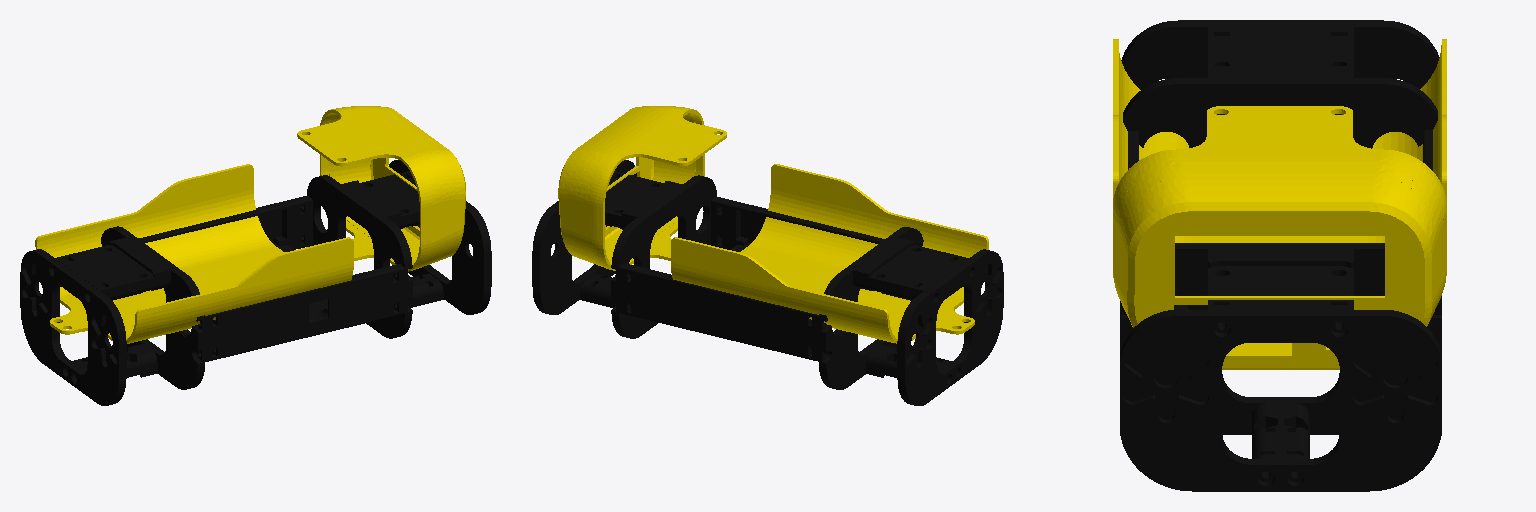
URDF robot description (rex):
<?xml version="1.0" encoding="utf-8"?>
<!-- =================================================================================== -->
<!-- |    This document was autogenerated by xacro from urdf/spotmicroai.urdf.xacro    | -->
<!-- |    EDITING THIS FILE BY HAND IS NOT RECOMMENDED                                 | -->
<!-- =================================================================================== -->
<robot name="rex" xmlns:xacro="http://www.ros.org/wiki/xacro">
  <material name="yellow">
    <color rgba="0.92 0.83 0.0 1"/>
  </material>
  <material name="black">
    <color rgba="0.1 0.1 0.1 1"/>
  </material>
  <material name="grey">
    <color rgba="0.6 0.6 0.6 1"/>
  </material>
  <!-- Params -->
  <!-- Macros -->
  <!-- Robot Body -->
  <link name="base_link">
    <visual>
      <geometry>
        <mesh filename="stl/mainbody.stl" scale="0.001 0.001 0.001"/>
      </geometry>
      <material name="black"/>
      <origin rpy="0 0 0" xyz="-0.045 -0.060 -0.015"/>
    </visual>
    <collision>
      <geometry>
        <box size="0.14 0.11 0.07"/>
      </geometry>
      <origin rpy="0 0 0" xyz="0 0 0"/>
    </collision>
    <inertial>
      <mass value="2.80"/>
      <inertia ixx="100" ixy="0" ixz="0" iyy="100" iyz="0" izz="100"/>
    </inertial>
  </link>

<!--  @TODO add lidar sensor-->
  <!-- Lidar Backpack -->
<!--  <link name="lidar_link">-->
<!--    <visual>-->
<!--      <geometry>-->
<!--        <mesh filename="stl/rplidar_main.STL" scale="0.001 0.001 0.001"/>-->
<!--      </geometry>-->
<!--      <material name="black"/>-->
<!--      <origin rpy="1.57075 0 0" xyz="-0.06425 0.02885 0"/>-->
<!--    </visual>-->
<!--    <collision>-->
<!--      <geometry>-->
<!--        <box size="0.0985 0.0577 0.07"/>-->
<!--      </geometry>-->
<!--      <origin rpy="0 0 0" xyz="0 0 0"/>-->
<!--    </collision>-->
<!--    <inertial>-->
<!--      <mass value="0.50"/>-->
<!--      <inertia ixx="100" ixy="0" ixz="0" iyy="100" iyz="0" izz="100"/>-->
<!--    </inertial>-->
<!--  </link>-->
<!--  <joint name="base_lidar" type="fixed">-->
<!--    <parent link="base_link"/>-->
<!--    <child link="lidar_link"/>-->
<!--    <origin xyz="0 0 0.035"/>-->
<!--  </joint>-->

  <!-- create head & tail -->
  <link name="chassis_front_link">
    <visual>
      <geometry>
        <mesh filename="stl/frontpart.stl" scale="0.001 0.001 0.001"/>
      </geometry>
      <origin rpy="0 0 0" xyz="-0.040 -0.060 -0.0140"/>
      <material name="yellow"/>
    </visual>
    <collision>
      <geometry>
        <box size="0.058 0.11 0.07"/>
      </geometry>
      <origin rpy="0 0 0" xyz="-0.145 0 0"/>
    </collision>
    <inertial>
      <mass value="0.20"/>
      <inertia ixx="100" ixy="0" ixz="0" iyy="100" iyz="0" izz="100"/>
    </inertial>
  </link>
  <joint name="chassis_base_front" type="fixed">
    <parent link="base_link"/>
    <child link="chassis_front_link"/>
  </joint>
  <link name="chassis_rear_link">
    <visual>
      <geometry>
        <mesh filename="stl/backpart.stl" scale="0.001 0.001 0.001"/>
      </geometry>
      <origin rpy="0 0 0" xyz="-0.040 -0.060 -0.0140"/>
      <material name="yellow"/>
    </visual>
    <collision>
      <geometry>
        <box size="0.04 0.11 0.07"/>
      </geometry>
      <origin rpy="0 0 0" xyz="0.135 0 0"/>
    </collision>
    <inertial>
      <mass value="0.20"/>
      <inertia ixx="100" ixy="0" ixz="0" iyy="100" iyz="0" izz="100"/>
    </inertial>
  </link>
  <joint name="chassis_base_rear" type="fixed">
    <parent link="base_link"/>
    <child link="chassis_rear_link"/>
  </joint>

  <!-- create Legs -->
  <link name="front_left_shoulder_link">
    <visual>
      <geometry>
        <mesh filename="stl/lshoulder.stl" scale="0.001 0.001 0.001"/>
      </geometry>
      <origin rpy="0 0 0" xyz="-0.135 -0.02 -0.01"/>
      <material name="black"/>
    </visual>
    <collision>
      <geometry>
        <box size="0.044 0.038 0.07"/>
      </geometry>
      <origin rpy="0 0 0" xyz="0 0 0"/>
    </collision>
    <inertial>
      <mass value="0.10"/>
      <inertia ixx="100" ixy="0" ixz="0" iyy="100" iyz="0" izz="100"/>
    </inertial>
  </link>
  <link name="front_left_leg_link_cover">
    <visual>
      <geometry>
        <mesh filename="stl/larm_cover.stl" scale="0.001 0.001 0.001"/>
      </geometry>
      <origin rpy="0 0 0" xyz="-0.125 0.04 -0.02"/>
      <material name="yellow"/>
    </visual>
  </link>
  <link name="front_left_leg_link">
    <visual>
      <geometry>
        <mesh filename="stl/larm.stl" scale="0.001 0.001 0.001"/>
      </geometry>
      <origin rpy="0 0 0" xyz="-0.125 0.04 -0.02"/>
      <material name="black"/>
      <!--        <geometry>
          <box size="0.028 0.036 ${leg_length}"/>
        </geometry>
        <origin rpy="0.0 0.0 0.0" xyz="0.0 0.0 -0.050"/>
        <material name="yellow"/>-->
    </visual>
    <collision>
      <origin rpy="0.0 0.0 0.0" xyz="0.0 0.0 -0.050"/>
      <geometry>
        <box size="0.028 0.036 0.12"/>
      </geometry>
    </collision>
    <inertial>
      <mass value="0.15"/>
      <inertia ixx="1000" ixy="0" ixz="0" iyy="1000" iyz="0" izz="1000"/>
    </inertial>
  </link>
  <link name="front_left_foot_link">
    <visual>
      <geometry>
        <mesh filename="stl/lfoot.stl" scale="0.001 0.001 0.001"/>
      </geometry>
      <origin rpy="0 0 0" xyz="-0.120 0.04 0.1"/>
      <material name="black"/>
    </visual>
    <collision>
      <geometry>
        <box size="0.026 0.020 0.115"/>
      </geometry>
      <origin rpy="0.0 0.0 0.0" xyz="0.0 0.0 -0.050"/>
    </collision>
    <inertial>
      <mass value="0.1"/>
      <inertia ixx="1000" ixy="0" ixz="0" iyy="1000" iyz="0" izz="1000"/>
    </inertial>
  </link>
  <link name="front_left_toe_link">
    <visual>
      <geometry>
        <mesh filename="stl/foot.stl" scale="0.001 0.001 0.001"/>
      </geometry>
      <origin rpy="0 -0.40010 0" xyz="0 -0.01 0"/>
      <material name="grey"/>
    </visual>
    <collision>
      <geometry>
        <sphere radius="0.02"/>
      </geometry>
      <origin rpy="0 0 0" xyz="0 0 0"/>
      <contact_coefficients mu="1.1"/>
    </collision>
    <inertial>
      <mass value="0.05"/>
      <inertia ixx="1000" ixy="0" ixz="0" iyy="1000" iyz="0" izz="1000"/>
    </inertial>
  </link>
  <joint name="motor_front_left_shoulder" type="revolute">
    <parent link="base_link"/>
    <child link="front_left_shoulder_link"/>
    <axis xyz="1 0 0"/>
    <origin rpy="0 0 0" xyz="-0.093 -0.036 0"/>
    <limit effort="1000.0" lower="-0.548" upper="0.548" velocity="0.7"/>
    <dynamics damping="0.0" friction="0.5"/>
  </joint>
  <joint name="motor_front_left_leg" type="revolute">
    <parent link="front_left_shoulder_link"/>
    <child link="front_left_leg_link"/>
    <axis xyz="0 1 0"/>
    <origin rpy="0 0 0" xyz="0 -0.052 0"/>
    <limit effort="1000.0" lower="-2.666" upper="1.548" velocity="0.5"/>
    <dynamics damping="0.0" friction="0.0"/>
  </joint>
  <joint name="front_left_leg_cover_joint" type="fixed">
    <parent link="front_left_leg_link"/>
    <child link="front_left_leg_link_cover"/>
    <origin xyz="0 0 0"/>
  </joint>
  <joint name="foot_motor_front_left" type="revolute">
    <parent link="front_left_leg_link"/>
    <child link="front_left_foot_link"/>
    <axis xyz="0 1 0"/>
    <origin rpy="0 0 0" xyz="-0.01 0 -0.12"/>
    <limit effort="1000.0" lower="-0.1" upper="2.59" velocity="0.5"/>
    <dynamics damping="0.0" friction="0.5"/>
  </joint>
  <joint name="front_left_toe" type="fixed">
    <parent link="front_left_foot_link"/>
    <child link="front_left_toe_link"/>
    <origin xyz="0 0 -0.115"/>
  </joint>

  <link name="front_right_shoulder_link">
    <visual>
      <geometry>
        <mesh filename="stl/rshoulder.stl" scale="0.001 0.001 0.001"/>
      </geometry>
      <origin rpy="0 0 0" xyz="-0.135 -0.09 -0.01"/>
      <material name="black"/>
    </visual>
    <collision>
      <geometry>
        <box size="0.044 0.038 0.07"/>
      </geometry>
      <origin rpy="0 0 0" xyz="0 0 0"/>
    </collision>
    <inertial>
      <mass value="0.10"/>
      <inertia ixx="100" ixy="0" ixz="0" iyy="100" iyz="0" izz="100"/>
    </inertial>
  </link>
  <link name="front_right_leg_link_cover">
    <visual>
      <geometry>
        <mesh filename="stl/rarm_cover.stl" scale="0.001 0.001 0.001"/>
      </geometry>
      <origin rpy="0 0 0" xyz="-0.125 -0.15 -0.02"/>
      <material name="yellow"/>
    </visual>
  </link>
  <link name="front_right_leg_link">
    <visual>
      <geometry>
        <mesh filename="stl/rarm.stl" scale="0.001 0.001 0.001"/>
      </geometry>
      <origin rpy="0 0 0" xyz="-0.125 -0.15 -0.02"/>
      <material name="black"/>
      <!--        <geometry>
          <box size="0.028 0.036 ${leg_length}"/>
        </geometry>
        <origin rpy="0.0 0.0 0.0" xyz="0.0 0.0 -0.050"/>
        <material name="yellow"/>-->
    </visual>
    <collision>
      <origin rpy="0.0 0.0 0.0" xyz="0.0 0.0 -0.050"/>
      <geometry>
        <box size="0.028 0.036 0.12"/>
      </geometry>
    </collision>
    <inertial>
      <mass value="0.15"/>
      <inertia ixx="1000" ixy="0" ixz="0" iyy="1000" iyz="0" izz="1000"/>
    </inertial>
  </link>
  <link name="front_right_foot_link">
    <visual>
      <geometry>
        <mesh filename="stl/rfoot.stl" scale="0.001 0.001 0.001"/>
      </geometry>
      <origin rpy="0 0 0" xyz="-0.120 -0.15 0.1"/>
      <material name="black"/>
    </visual>
    <collision>
      <geometry>
        <box size="0.026 0.020 0.115"/>
      </geometry>
      <origin rpy="0.0 0.0 0.0" xyz="0.0 0.0 -0.050"/>
    </collision>
    <inertial>
      <mass value="0.1"/>
      <inertia ixx="1000" ixy="0" ixz="0" iyy="1000" iyz="0" izz="1000"/>
    </inertial>
  </link>
  <link name="front_right_toe_link">
    <visual>
      <geometry>
        <mesh filename="stl/foot.stl" scale="0.001 0.001 0.001"/>
      </geometry>
      <origin rpy="0 -0.40010 0" xyz="0 -0.01 0"/>
      <material name="grey"/>
    </visual>
    <collision>
      <geometry>
        <sphere radius="0.02"/>
      </geometry>
      <origin rpy="0 0 0" xyz="0 0 0"/>
      <contact_coefficients mu="1.1"/>
    </collision>
    <inertial>
      <mass value="0.05"/>
      <inertia ixx="1000" ixy="0" ixz="0" iyy="1000" iyz="0" izz="1000"/>
    </inertial>
  </link>
  <joint name="motor_front_right_shoulder" type="revolute">
    <parent link="base_link"/>
    <child link="front_right_shoulder_link"/>
    <axis xyz="1 0 0"/>
    <origin rpy="0 0 0" xyz="-0.093 0.036 0"/>
    <limit effort="1000.0" lower="-0.548" upper="0.548" velocity="0.7"/>
    <dynamics damping="0.0" friction="0.5"/>
  </joint>
  <joint name="motor_front_right_leg" type="revolute">
    <parent link="front_right_shoulder_link"/>
    <child link="front_right_leg_link"/>
    <axis xyz="0 1 0"/>
    <origin rpy="0 0 0" xyz="0 0.052 0"/>
    <limit effort="1000.0" lower="-2.666" upper="1.548" velocity="0.5"/>
    <dynamics damping="0.0" friction="0.0"/>
  </joint>
  <joint name="front_right_leg_cover_joint" type="fixed">
    <parent link="front_right_leg_link"/>
    <child link="front_right_leg_link_cover"/>
    <origin xyz="0 0 0"/>
  </joint>
  <joint name="foot_motor_front_right" type="revolute">
    <parent link="front_right_leg_link"/>
    <child link="front_right_foot_link"/>
    <axis xyz="0 1 0"/>
    <origin rpy="0 0 0" xyz="-0.01 0 -0.12"/>
    <limit effort="1000.0" lower="-0.1" upper="2.59" velocity="0.5"/>
    <dynamics damping="0.0" friction="0.5"/>
  </joint>
  <joint name="front_right_toe" type="fixed">
    <parent link="front_right_foot_link"/>
    <child link="front_right_toe_link"/>
    <origin xyz="0 0 -0.115"/>
  </joint>

  <link name="rear_left_shoulder_link">
    <visual>
      <geometry>
        <mesh filename="stl/lshoulder.stl" scale="0.001 0.001 0.001"/>
      </geometry>
      <origin rpy="0 0 0" xyz="-0.135 -0.02 -0.01"/>
      <material name="black"/>
    </visual>
    <collision>
      <geometry>
        <box size="0.044 0.038 0.07"/>
      </geometry>
      <origin rpy="0 0 0" xyz="0 0 0"/>
    </collision>
    <inertial>
      <mass value="0.10"/>
      <inertia ixx="100" ixy="0" ixz="0" iyy="100" iyz="0" izz="100"/>
    </inertial>
  </link>
  <link name="rear_left_leg_link_cover">
    <visual>
      <geometry>
        <mesh filename="stl/larm_cover.stl" scale="0.001 0.001 0.001"/>
      </geometry>
      <origin rpy="0 0 0" xyz="-0.125 0.04 -0.02"/>
      <material name="yellow"/>
    </visual>
  </link>
  <link name="rear_left_leg_link">
    <visual>
      <geometry>
        <mesh filename="stl/larm.stl" scale="0.001 0.001 0.001"/>
      </geometry>
      <origin rpy="0 0 0" xyz="-0.125 0.04 -0.02"/>
      <material name="black"/>
      <!--        <geometry>
          <box size="0.028 0.036 ${leg_length}"/>
        </geometry>
        <origin rpy="0.0 0.0 0.0" xyz="0.0 0.0 -0.050"/>
        <material name="yellow"/>-->
    </visual>
    <collision>
      <origin rpy="0.0 0.0 0.0" xyz="0.0 0.0 -0.050"/>
      <geometry>
        <box size="0.028 0.036 0.12"/>
      </geometry>
    </collision>
    <inertial>
      <mass value="0.15"/>
      <inertia ixx="1000" ixy="0" ixz="0" iyy="1000" iyz="0" izz="1000"/>
    </inertial>
  </link>
  <link name="rear_left_foot_link">
    <visual>
      <geometry>
        <mesh filename="stl/lfoot.stl" scale="0.001 0.001 0.001"/>
      </geometry>
      <origin rpy="0 0 0" xyz="-0.120 0.04 0.1"/>
      <material name="black"/>
    </visual>
    <collision>
      <geometry>
        <box size="0.026 0.020 0.115"/>
      </geometry>
      <origin rpy="0.0 0.0 0.0" xyz="0.0 0.0 -0.050"/>
    </collision>
    <inertial>
      <mass value="0.1"/>
      <inertia ixx="1000" ixy="0" ixz="0" iyy="1000" iyz="0" izz="1000"/>
    </inertial>
  </link>
  <link name="rear_left_toe_link">
    <visual>
      <geometry>
        <mesh filename="stl/foot.stl" scale="0.001 0.001 0.001"/>
      </geometry>
      <origin rpy="0 -0.40010 0" xyz="0 -0.01 0"/>
      <material name="grey"/>
    </visual>
    <collision>
      <geometry>
        <sphere radius="0.02"/>
      </geometry>
      <origin rpy="0 0 0" xyz="0 0 0"/>
      <contact_coefficients mu="1.1"/>
    </collision>
    <inertial>
      <mass value="0.05"/>
      <inertia ixx="1000" ixy="0" ixz="0" iyy="1000" iyz="0" izz="1000"/>
    </inertial>
  </link>
  <joint name="motor_rear_left_shoulder" type="revolute">
    <parent link="base_link"/>
    <child link="rear_left_shoulder_link"/>
    <axis xyz="1 0 0"/>
    <origin rpy="0 0 0" xyz="0.093 -0.036 0"/>
    <limit effort="1000.0" lower="-0.548" upper="0.548" velocity="0.7"/>
    <dynamics damping="0.0" friction="0.5"/>
  </joint>
  <joint name="motor_rear_left_leg" type="revolute">
    <parent link="rear_left_shoulder_link"/>
    <child link="rear_left_leg_link"/>
    <axis xyz="0 1 0"/>
    <origin rpy="0 0 0" xyz="0 -0.052 0"/>
    <limit effort="1000.0" lower="-2.666" upper="1.548" velocity="0.5"/>
    <dynamics damping="0.0" friction="0.0"/>
  </joint>
  <joint name="rear_left_leg_cover_joint" type="fixed">
    <parent link="rear_left_leg_link"/>
    <child link="rear_left_leg_link_cover"/>
    <origin xyz="0 0 0"/>
  </joint>
  <joint name="foot_motor_rear_left" type="revolute">
    <parent link="rear_left_leg_link"/>
    <child link="rear_left_foot_link"/>
    <axis xyz="0 1 0"/>
    <origin rpy="0 0 0" xyz="-0.01 0 -0.12"/>
    <limit effort="1000.0" lower="-0.1" upper="2.59" velocity="0.5"/>
    <dynamics damping="0.0" friction="0.5"/>
  </joint>
  <joint name="rear_left_toe" type="fixed">
    <parent link="rear_left_foot_link"/>
    <child link="rear_left_toe_link"/>
    <origin xyz="0 0 -0.115"/>
  </joint>

  <link name="rear_right_shoulder_link">
    <visual>
      <geometry>
        <mesh filename="stl/rshoulder.stl" scale="0.001 0.001 0.001"/>
      </geometry>
      <origin rpy="0 0 0" xyz="-0.135 -0.09 -0.01"/>
      <material name="black"/>
    </visual>
    <collision>
      <geometry>
        <box size="0.044 0.038 0.07"/>
      </geometry>
      <origin rpy="0 0 0" xyz="0 0 0"/>
    </collision>
    <inertial>
      <mass value="0.10"/>
      <inertia ixx="100" ixy="0" ixz="0" iyy="100" iyz="0" izz="100"/>
    </inertial>
  </link>
  <link name="rear_right_leg_link_cover">
    <visual>
      <geometry>
        <mesh filename="stl/rarm_cover.stl" scale="0.001 0.001 0.001"/>
      </geometry>
      <origin rpy="0 0 0" xyz="-0.125 -0.15 -0.02"/>
      <material name="yellow"/>
    </visual>
  </link>
  <link name="rear_right_leg_link">
    <visual>
      <geometry>
        <mesh filename="stl/rarm.stl" scale="0.001 0.001 0.001"/>
      </geometry>
      <origin rpy="0 0 0" xyz="-0.125 -0.15 -0.02"/>
      <material name="black"/>
      <!--        <geometry>
          <box size="0.028 0.036 ${leg_length}"/>
        </geometry>
        <origin rpy="0.0 0.0 0.0" xyz="0.0 0.0 -0.050"/>
        <material name="yellow"/>-->
    </visual>
    <collision>
      <origin rpy="0.0 0.0 0.0" xyz="0.0 0.0 -0.050"/>
      <geometry>
        <box size="0.028 0.036 0.12"/>
      </geometry>
    </collision>
    <inertial>
      <mass value="0.15"/>
      <inertia ixx="1000" ixy="0" ixz="0" iyy="1000" iyz="0" izz="1000"/>
    </inertial>
  </link>
  <link name="rear_right_foot_link">
    <visual>
      <geometry>
        <mesh filename="stl/rfoot.stl" scale="0.001 0.001 0.001"/>
      </geometry>
      <origin rpy="0 0 0" xyz="-0.120 -0.15 0.1"/>
      <material name="black"/>
    </visual>
    <collision>
      <geometry>
        <box size="0.026 0.020 0.115"/>
      </geometry>
      <origin rpy="0.0 0.0 0.0" xyz="0.0 0.0 -0.050"/>
    </collision>
    <inertial>
      <mass value="0.1"/>
      <inertia ixx="1000" ixy="0" ixz="0" iyy="1000" iyz="0" izz="1000"/>
    </inertial>
  </link>
  <link name="rear_right_toe_link">
    <visual>
      <geometry>
        <mesh filename="stl/foot.stl" scale="0.001 0.001 0.001"/>
      </geometry>
      <origin rpy="0 -0.40010 0" xyz="0 -0.01 0"/>
      <material name="grey"/>
    </visual>
    <collision>
      <geometry>
        <sphere radius="0.02"/>
      </geometry>
      <origin rpy="0 0 0" xyz="0 0 0"/>
      <contact_coefficients mu="1.1"/>
    </collision>
    <inertial>
      <mass value="0.05"/>
      <inertia ixx="1000" ixy="0" ixz="0" iyy="1000" iyz="0" izz="1000"/>
    </inertial>
  </link>
  <joint name="motor_rear_right_shoulder" type="revolute">
    <parent link="base_link"/>
    <child link="rear_right_shoulder_link"/>
    <axis xyz="1 0 0"/>
    <origin rpy="0 0 0" xyz="0.093 0.036 0"/>
    <limit effort="1000.0" lower="-0.548" upper="0.548" velocity="0.7"/>
    <dynamics damping="0.0" friction="0.5"/>
  </joint>
  <joint name="motor_rear_right_leg" type="revolute">
    <parent link="rear_right_shoulder_link"/>
    <child link="rear_right_leg_link"/>
    <axis xyz="0 1 0"/>
    <origin rpy="0 0 0" xyz="0 0.052 0"/>
    <limit effort="1000.0" lower="-2.666" upper="1.548" velocity="0.5"/>
    <dynamics damping="0.0" friction="0.0"/>
  </joint>
  <joint name="rear_right_leg_cover_joint" type="fixed">
    <parent link="rear_right_leg_link"/>
    <child link="rear_right_leg_link_cover"/>
    <origin xyz="0 0 0"/>
  </joint>
  <joint name="foot_motor_rear_right" type="revolute">
    <parent link="rear_right_leg_link"/>
    <child link="rear_right_foot_link"/>
    <axis xyz="0 1 0"/>
    <origin rpy="0 0 0" xyz="-0.01 0 -0.12"/>
    <limit effort="1000.0" lower="-0.1" upper="2.59" velocity="0.5"/>
    <dynamics damping="0.0" friction="0.5"/>
  </joint>
  <joint name="rear_right_toe" type="fixed">
    <parent link="rear_right_foot_link"/>
    <child link="rear_right_toe_link"/>
    <origin xyz="0 0 -0.115"/>
  </joint>
</robot>

--- Facts derived from the render (not from the file) ---
3 views of the same robot in one strip: view 1: azimuth 30°, elevation 25°; view 2: azimuth 150°, elevation 25°; view 3: azimuth 270°, elevation 25° (orthographic).
Robot: rex — 23 links, 22 joints (12 revolute, 10 fixed); root link base_link; default pose: all joints at 0.
Links seen in each view (by area): view 1: base_link, chassis_rear_link; view 2: base_link, chassis_rear_link; view 3: base_link, chassis_rear_link.
Boxes of the visible links, <box> form: base_link: <box>20,160,491,405</box>; chassis_rear_link: <box>35,106,465,343</box>; base_link: <box>532,160,1003,405</box>; chassis_rear_link: <box>558,106,988,343</box>; base_link: <box>1120,20,1441,491</box>; chassis_rear_link: <box>1113,39,1446,369</box>.
Bounding box of the posed robot: 0.2502 × 0.1141 × 0.1099 m (x, y, z).
Meshes: 12 distinct files referenced, 2 mesh visuals loaded (2 binary STL); not drawn: 21 (reference not matched to a file when rendering).